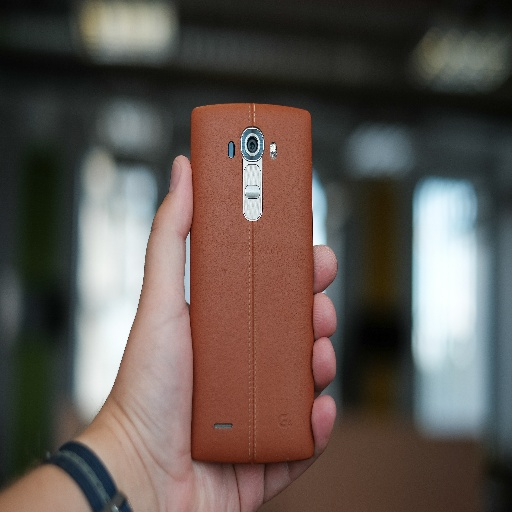hand: (101, 107, 334, 512)
